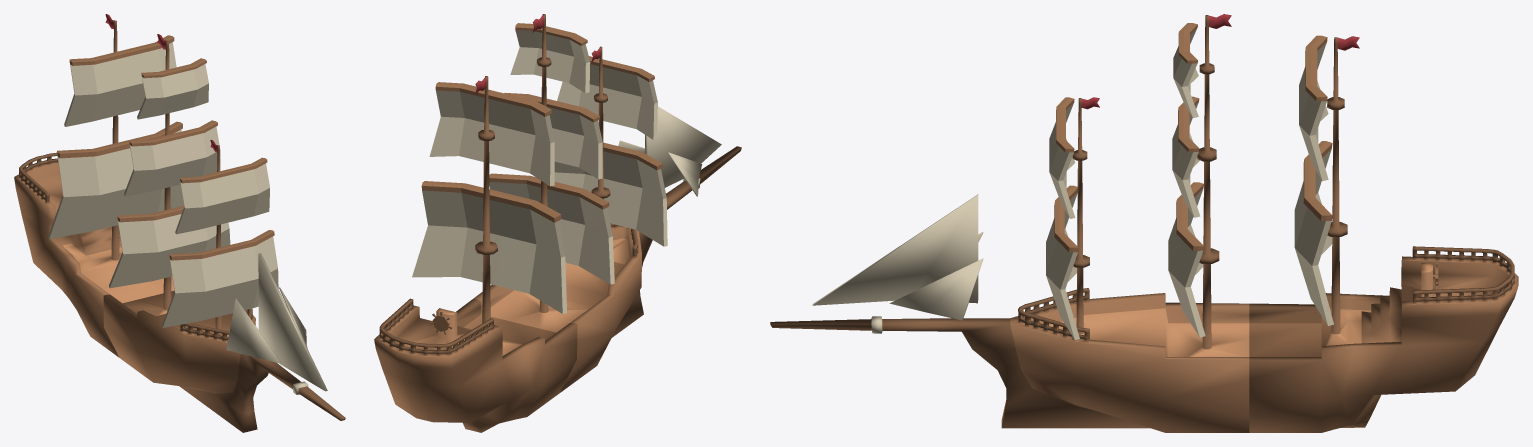
File: animated-enemy-ship.glb
The picture shows the model from 3 angles, left to right: view 1: azimuth 30°, elevation 25°; view 2: azimuth 150°, elevation 25°; view 3: azimuth 270°, elevation 25°; orthographic projection. The views are drawn at different scales.
Parts seen in each view (by area): view 1: BigShip, BackSail, MidleSail, Front Sail, BigShip.001; view 2: BackSail, BigShip.001, BigShip, MidleSail, Front Sail; view 3: BigShip, BigShip.001, BackSail, MidleSail, Front Sail.
Boxes of the visible parts, left/top/right/bottom form: BigShip: left=103, top=34, right=345, bottom=432; BackSail: left=48, top=35, right=183, bottom=238; MidleSail: left=109, top=58, right=230, bottom=288; Front Sail: left=162, top=157, right=278, bottom=327; BigShip.001: left=14, top=14, right=174, bottom=357; BackSail: left=412, top=82, right=566, bottom=313; BigShip.001: left=374, top=76, right=577, bottom=432; BigShip: left=474, top=14, right=741, bottom=392; MidleSail: left=489, top=23, right=614, bottom=284; Front Sail: left=554, top=56, right=667, bottom=246; BigShip: left=770, top=14, right=1249, bottom=432; BigShip.001: left=1249, top=36, right=1518, bottom=432; BackSail: left=1294, top=35, right=1333, bottom=325; MidleSail: left=1168, top=23, right=1205, bottom=337; Front Sail: left=1046, top=97, right=1079, bottom=339.
Size of the model in its own units: 1.7 by 3.85 by 6.38.
